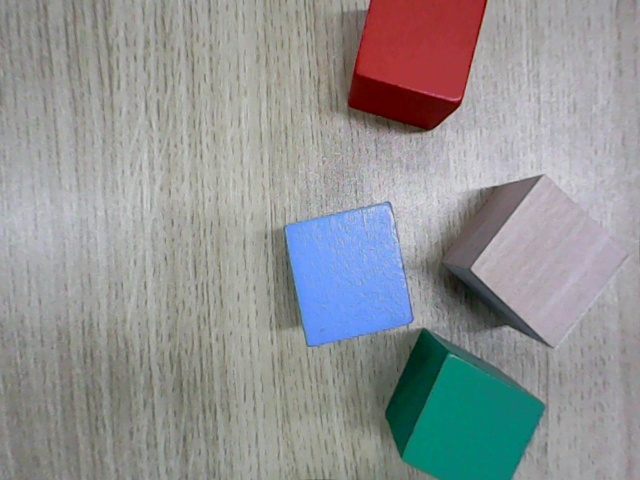upside of big cube: (466, 174, 632, 352), (283, 202, 414, 348), (401, 354, 546, 479), (353, 0, 488, 104)
